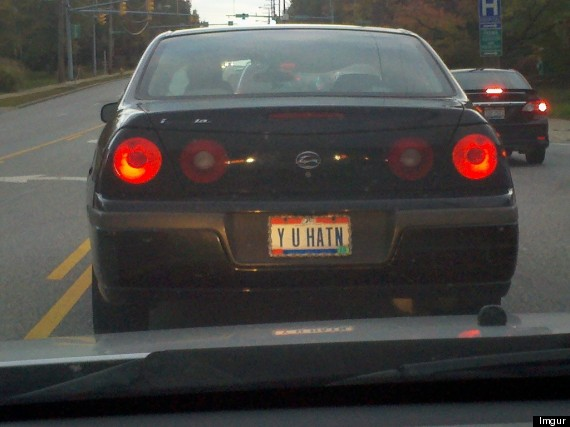license plate: (264, 213, 357, 260)
